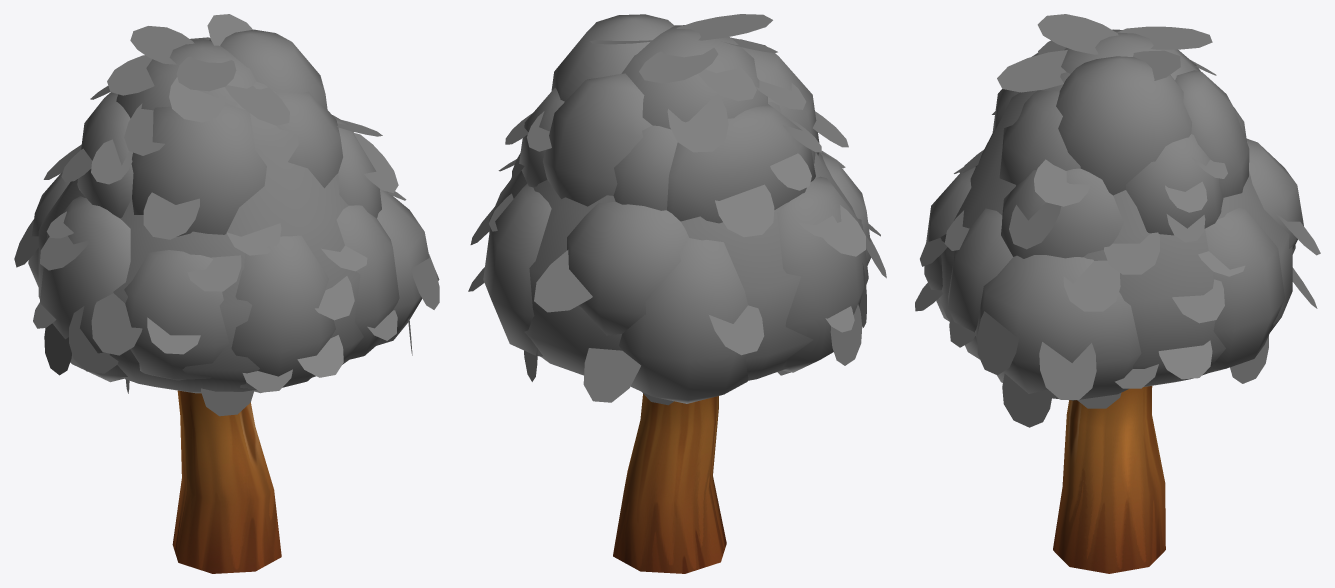
The model's file is tree02.fbx.
The picture shows the model from 3 angles, left to right: view 1: azimuth 30°, elevation 25°; view 2: azimuth 150°, elevation 25°; view 3: azimuth 270°, elevation 25°; orthographic projection. The views are drawn at different scales.
Visible parts, largest first — view 1: Sphere004, Sphere005; view 2: Sphere004, Sphere005; view 3: Sphere004, Sphere005.
Boxes of the visible parts, <box> form: Sphere004: <box>14,14,439,416</box>; Sphere005: <box>172,390,281,573</box>; Sphere004: <box>468,14,886,405</box>; Sphere005: <box>613,394,726,573</box>; Sphere004: <box>915,14,1320,427</box>; Sphere005: <box>1053,386,1165,573</box>.
Bounding box in the file's own units: 171 × 223 × 163.
